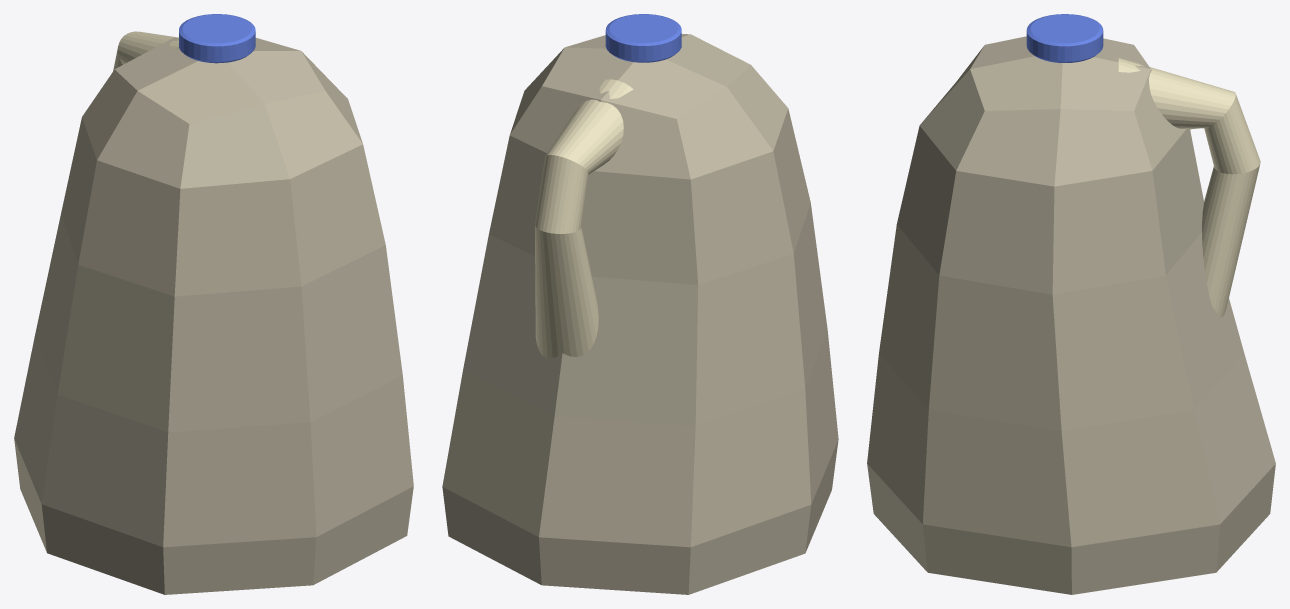
The model's file is Milk jug.fbx.
3 views of the same model, side by side, from view 1: azimuth 30°, elevation 25°; view 2: azimuth 150°, elevation 25°; view 3: azimuth 270°, elevation 25° (orthographic).
Visible parts, largest first — view 1: Cube, Cylinder, Cylinder.001; view 2: Cube, Cylinder.001, Cylinder; view 3: Cube, Cylinder.001, Cylinder.
Boxes of the visible parts, x1=… form: Cube: x1=14, y1=37, x2=413, y2=594; Cylinder: x1=179, y1=14, x2=255, y2=63; Cylinder.001: x1=113, y1=31, x2=178, y2=70; Cube: x1=442, y1=34, x2=838, y2=594; Cylinder.001: x1=535, y1=79, x2=633, y2=358; Cylinder: x1=605, y1=14, x2=681, y2=62; Cube: x1=867, y1=36, x2=1275, y2=594; Cylinder.001: x1=1118, y1=58, x2=1260, y2=317; Cylinder: x1=1026, y1=14, x2=1103, y2=62.
Bounding box in the file's own units: 220 × 304 × 226.
